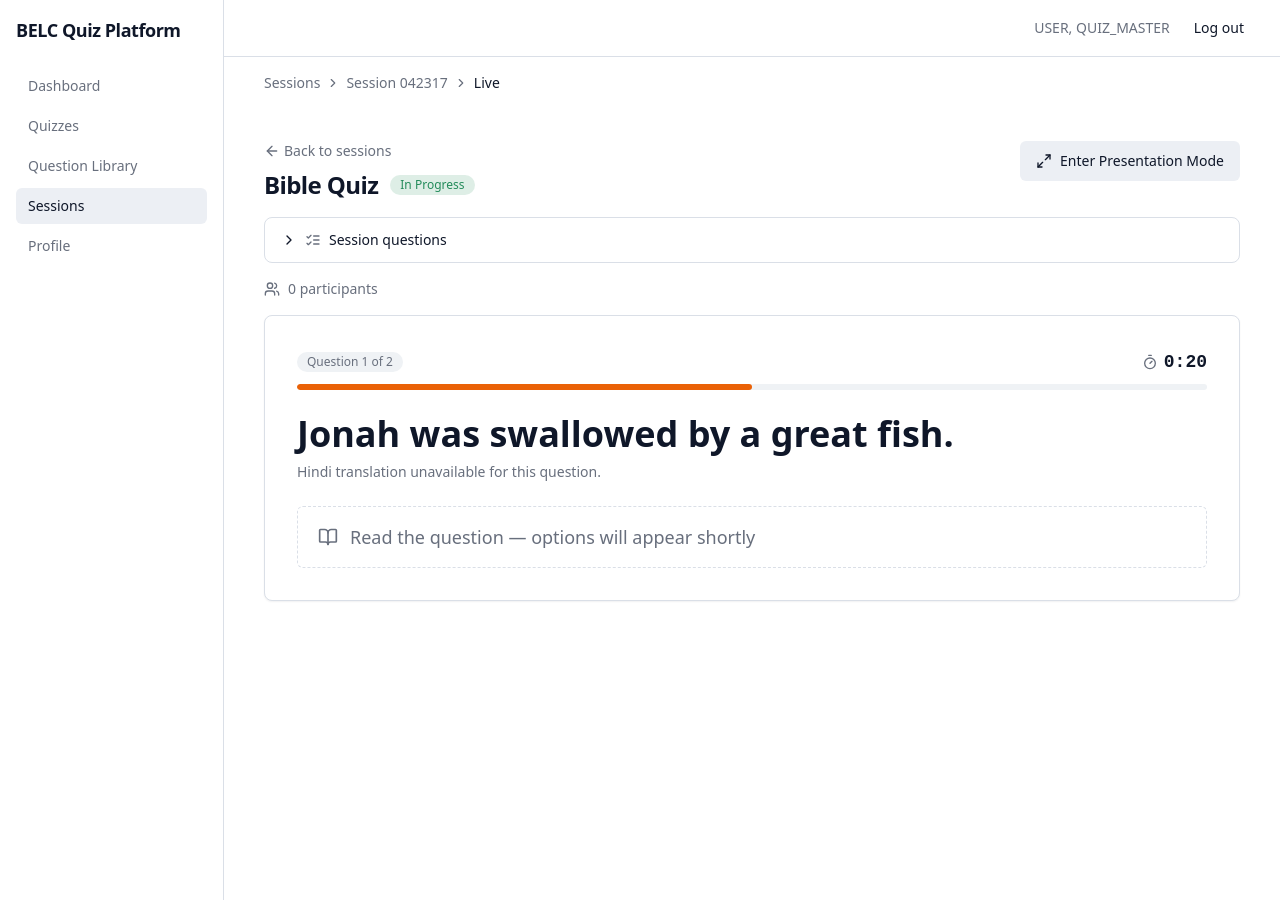
Test case: SessionLivePage › shows an Answered placeholder during the reading period, not a disappearing row, then real counts once open
The width and height of the screenshot is (1280, 900).
Check: the text "Jonah was swallowed by a great fish." is shown, box 297,409 -> 954,458
Step 1. Click the button "Enter Presentation Mode" → (1130, 161), box 1020,141 -> 1240,181
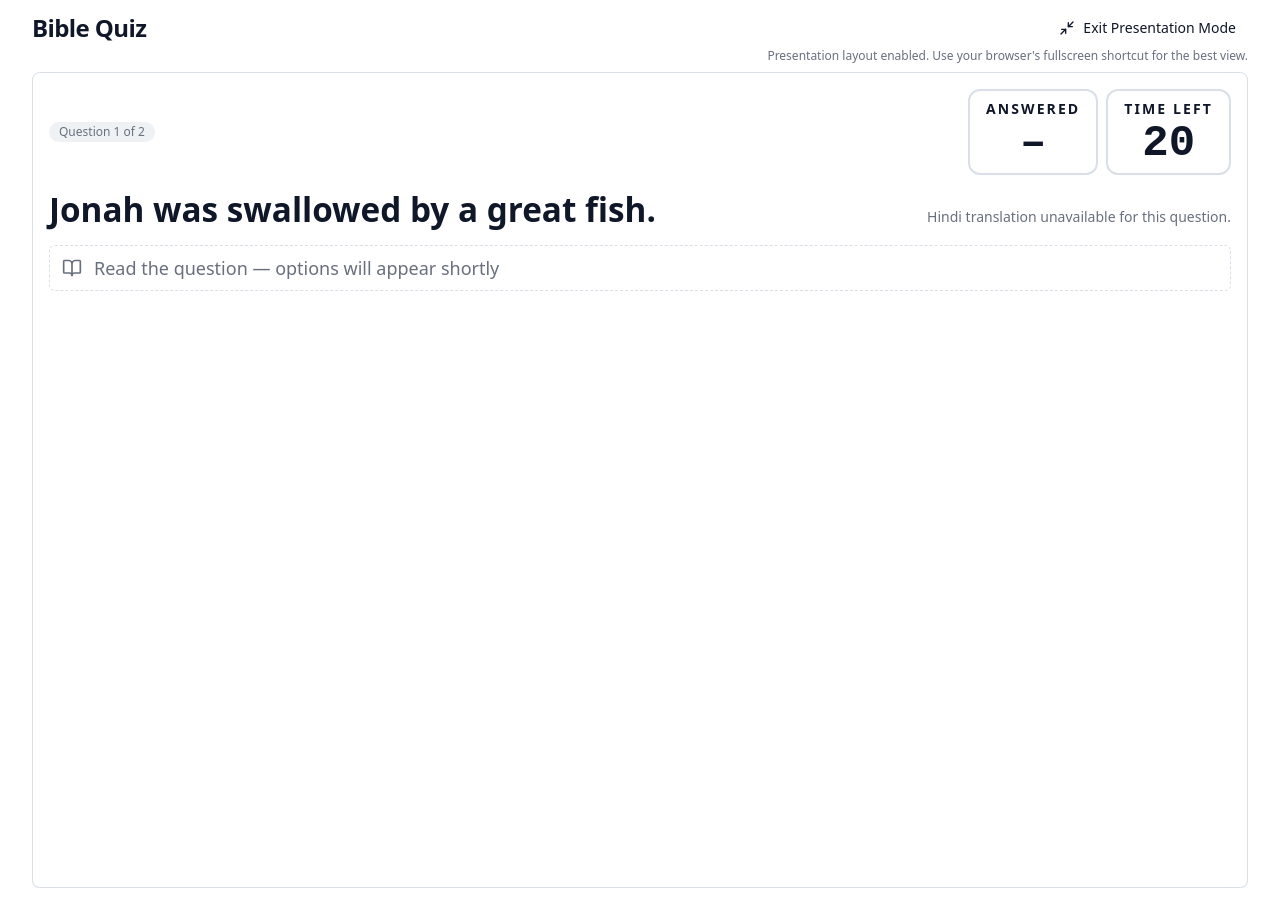
Check: the text "–" is shown, box 1020,118 -> 1046,168
Check: the element showing "Time left 20" is shown, box 1106,89 -> 1231,175
